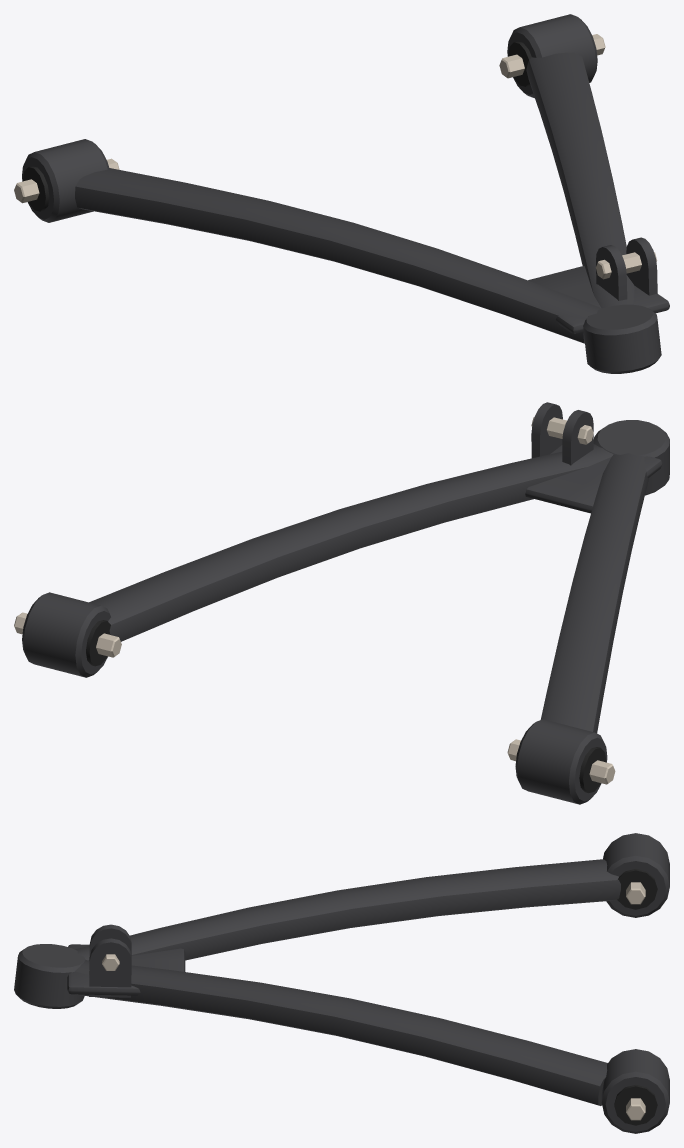
File: SM_Susp_FR_LowerArm.fbx
3 renders of one model, top to bottom at view 1: azimuth 30°, elevation 25°; view 2: azimuth 150°, elevation 25°; view 3: azimuth 270°, elevation 25°, orthographic. The views are drawn at different scales.
Parts seen in each view (by area): view 1: Export_Susp_FR_LowerArm; view 2: Export_Susp_FR_LowerArm; view 3: Export_Susp_FR_LowerArm.
Boxes of the visible parts, box(x1,y1,x2,y2) form: Export_Susp_FR_LowerArm: box(14, 14, 669, 373); Export_Susp_FR_LowerArm: box(14, 402, 669, 804); Export_Susp_FR_LowerArm: box(14, 833, 669, 1133).
Bounding box in the file's own units: 0.4998 × 0.4801 × 0.0848.
